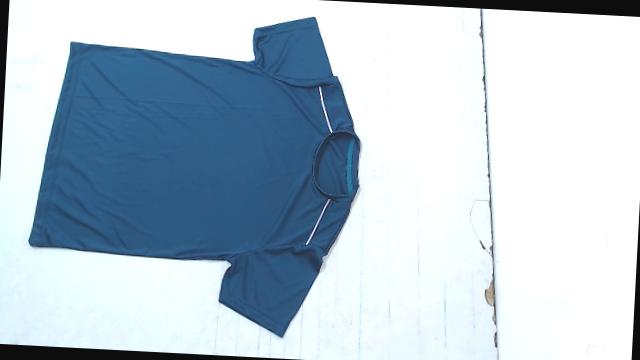new-garment: (29, 17, 359, 337)
